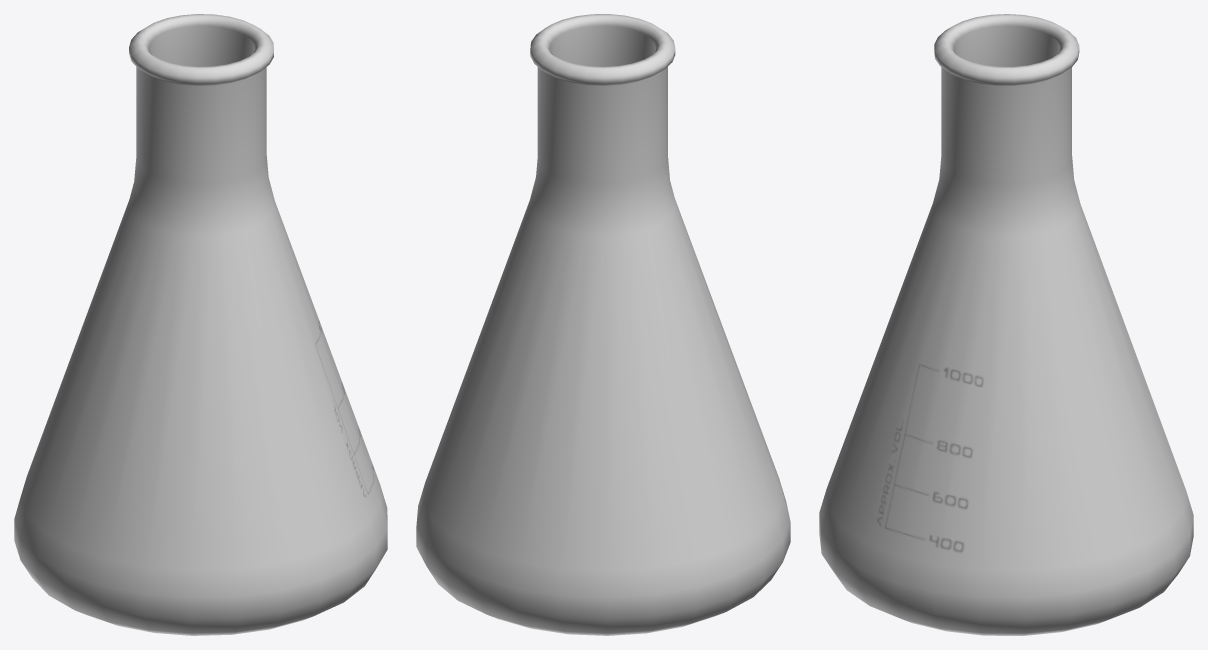
File: conical_flask_mid.glb
3 renders of one model, left to right at view 1: azimuth 30°, elevation 25°; view 2: azimuth 150°, elevation 25°; view 3: azimuth 270°, elevation 25°, orthographic.
Visible parts, largest first — view 1: Conical_flask_mid; view 2: Conical_flask_mid; view 3: Conical_flask_mid.
Boxes of the visible parts, x1,y1,x2,y2 form: Conical_flask_mid: [14, 14, 387, 635]; Conical_flask_mid: [416, 14, 790, 635]; Conical_flask_mid: [819, 14, 1193, 635].
Bounding box in the file's own units: 0.1668 × 0.26 × 0.167.
2 materials, 1 textured.
